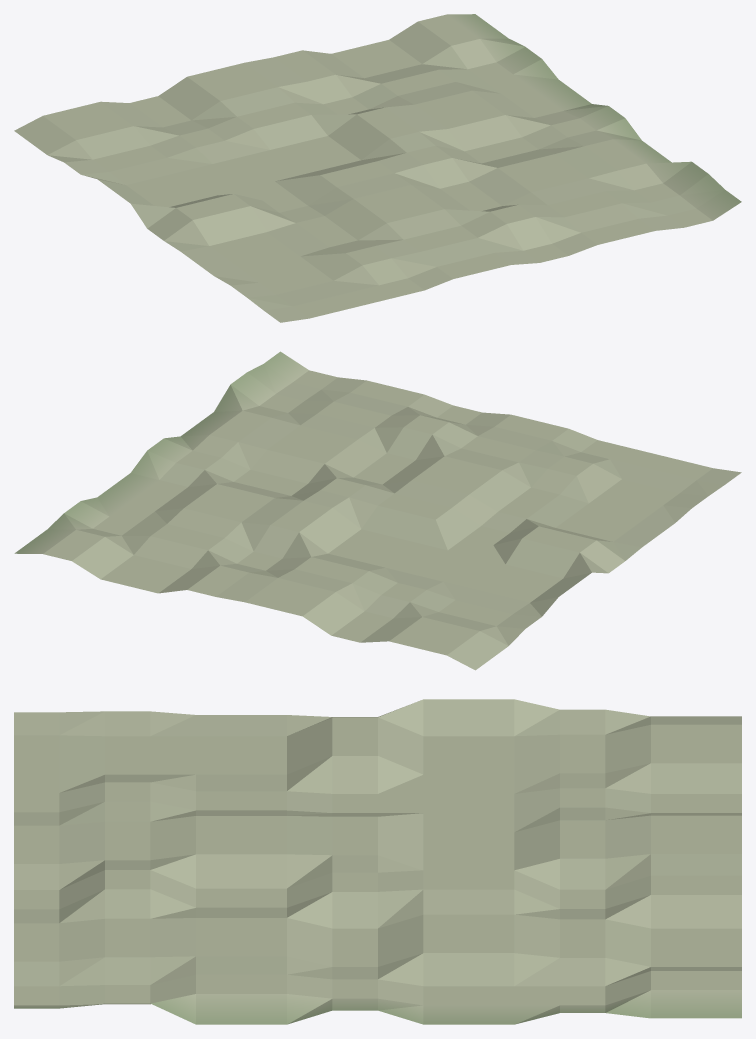
3 renders of one model, top to bottom at view 1: azimuth 30°, elevation 25°; view 2: azimuth 150°, elevation 25°; view 3: azimuth 270°, elevation 25°, orthographic. The views are drawn at different scales.
Bounding box in the file's own units: 32 × 1.02 × 32.
